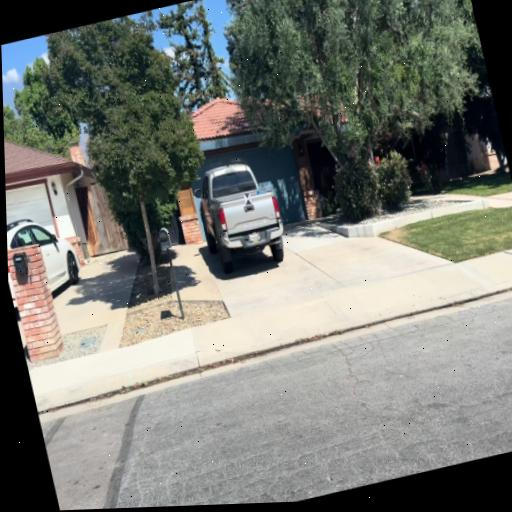target1: (243, 192, 253, 205)
